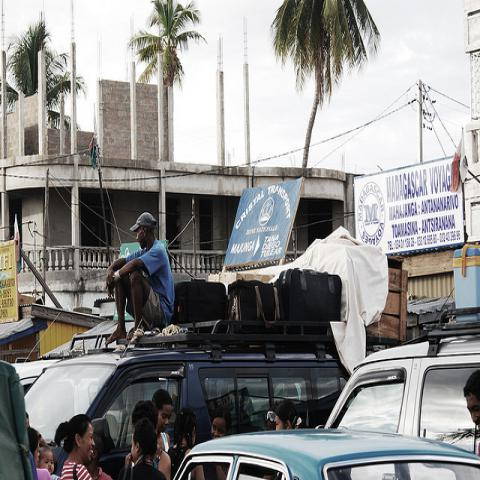car: (24, 350, 347, 451), (322, 330, 480, 455), (170, 425, 480, 479)
